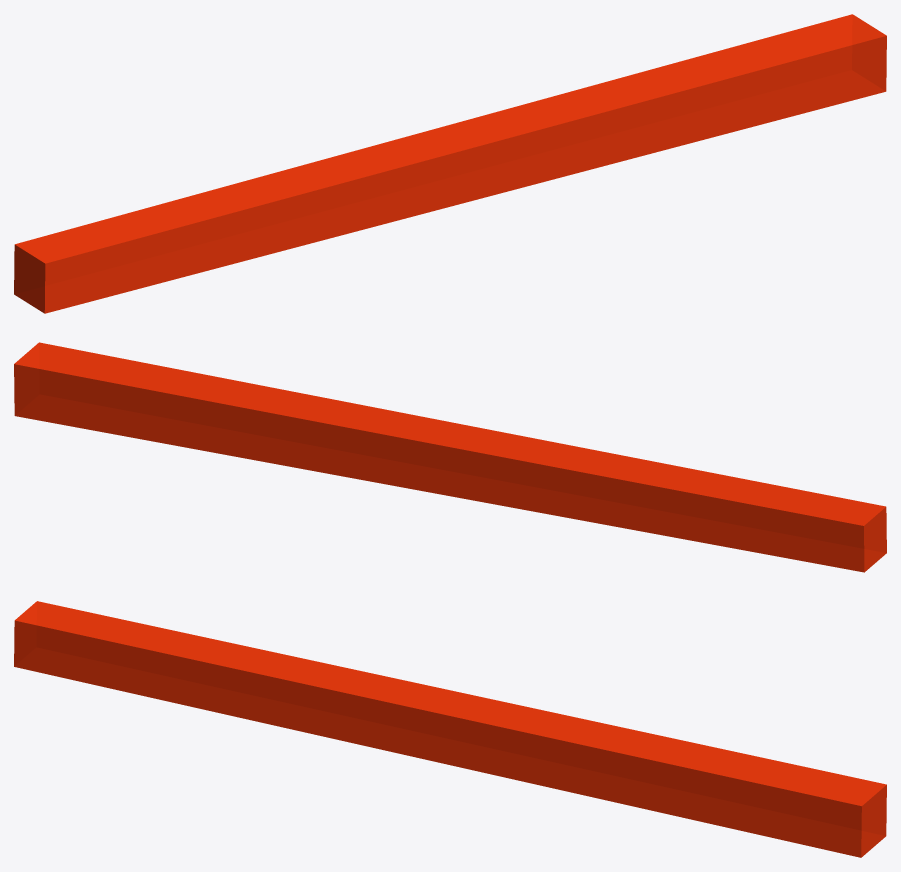
File: Event_421556567_EErechit_66.fbx
3 renders of one model, top to bottom at view 1: azimuth 30°, elevation 25°; view 2: azimuth 150°, elevation 25°; view 3: azimuth 330°, elevation 25°, orthographic. The views are drawn at different scales.
Visible parts, largest first — view 1: Model; view 2: Model; view 3: Model.
Part boxes in pixels (bbox=[...]): Model: bbox=[14, 14, 886, 313]; Model: bbox=[14, 342, 886, 572]; Model: bbox=[14, 601, 886, 857].
Size of the model in its own units: 1.34 by 0.0978 by 0.1731.
